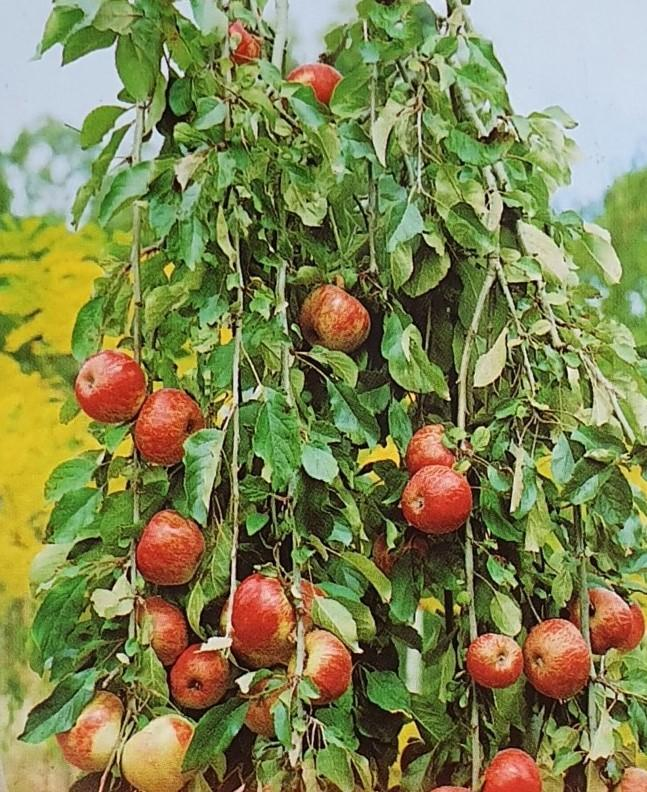apple: (225, 573, 320, 665), (132, 509, 211, 590), (519, 617, 589, 700), (54, 689, 126, 769), (72, 347, 146, 424), (132, 387, 206, 464), (123, 716, 198, 787), (298, 282, 370, 353), (403, 462, 471, 536), (167, 643, 232, 714), (295, 629, 352, 705), (575, 586, 632, 655), (478, 746, 541, 791), (468, 633, 520, 687), (402, 423, 457, 474), (285, 62, 342, 105)
